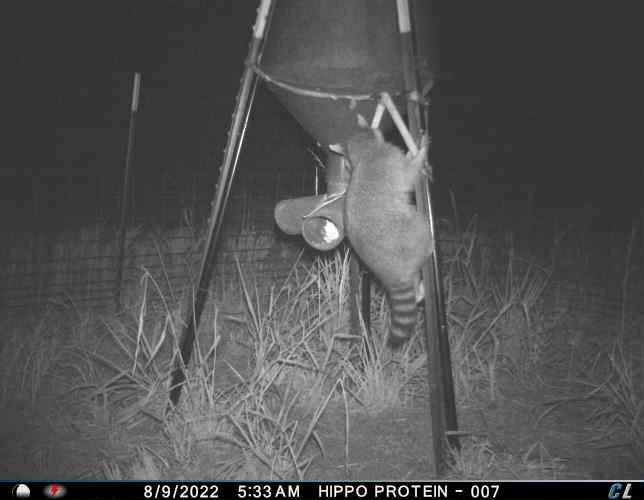Raccoon: (327, 111, 439, 353)
